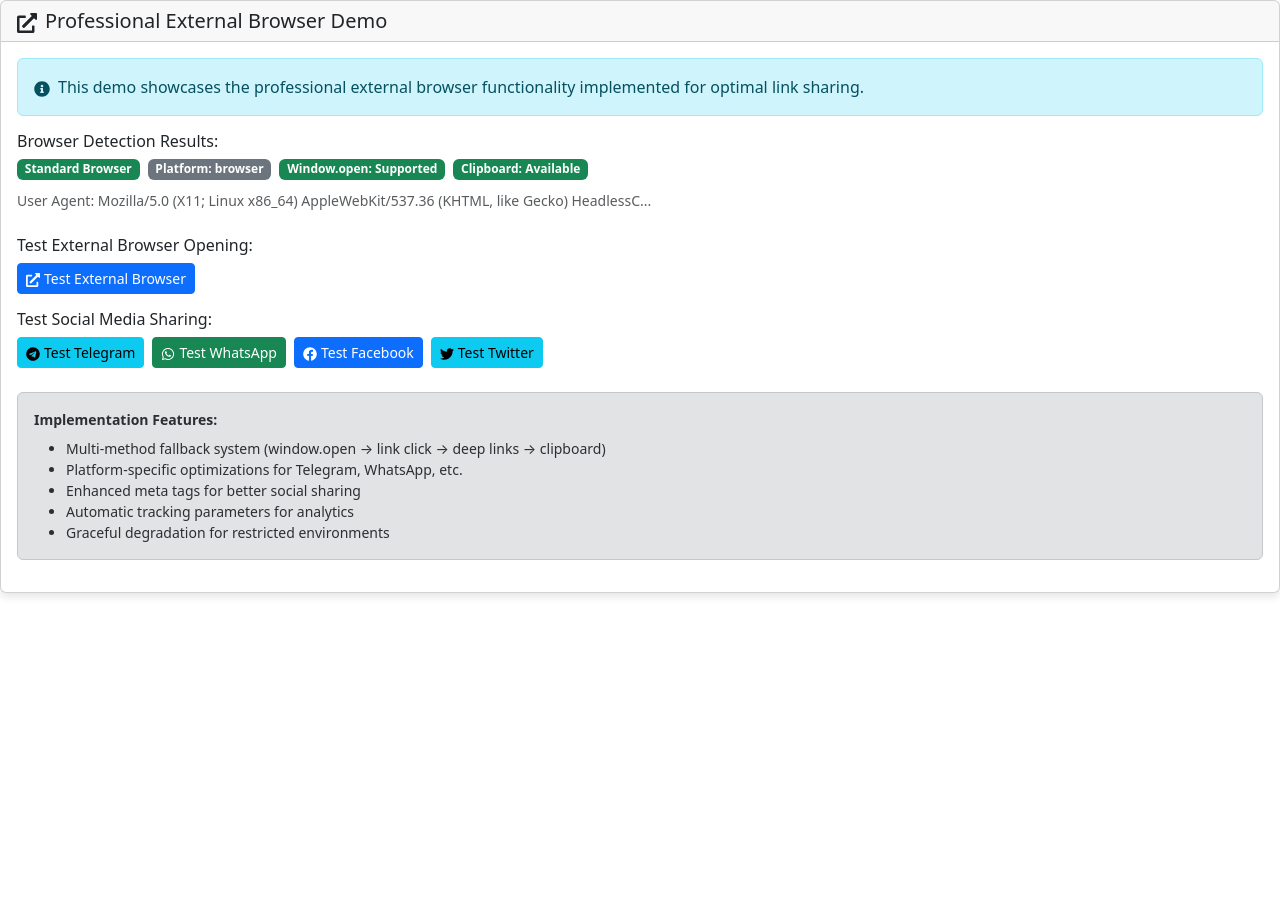
Test: ExternalBrowser Professional Implementation › Social Media Sharing › handles successful Telegram sharing
The width and height of the screenshot is (1280, 900).
Click the button "Test Telegram": x=81, y=352 17,337 -> 144,368
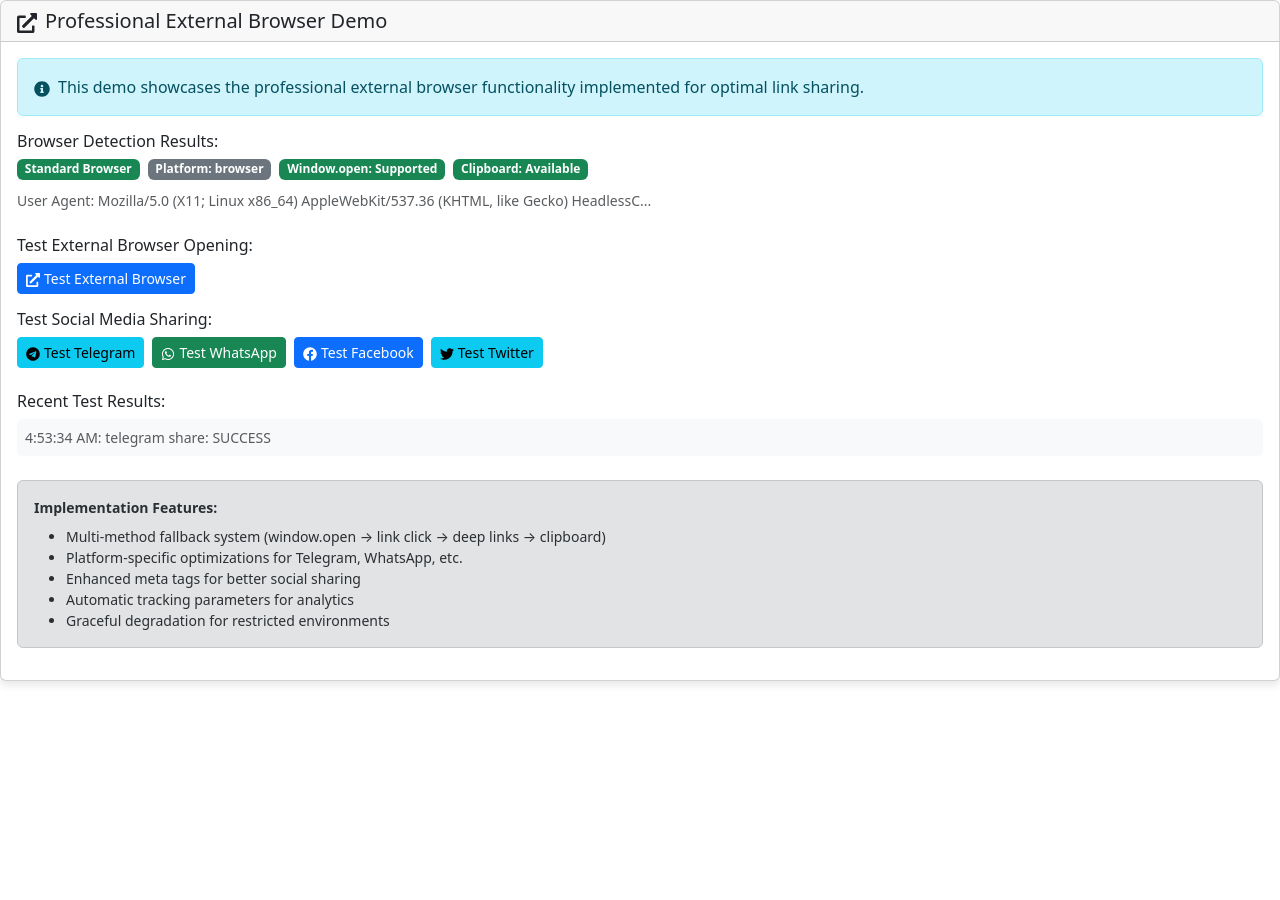
Now the text "4:53:34 AM: telegram share: SUCCESS" is shown, box 25,428 -> 271,447
